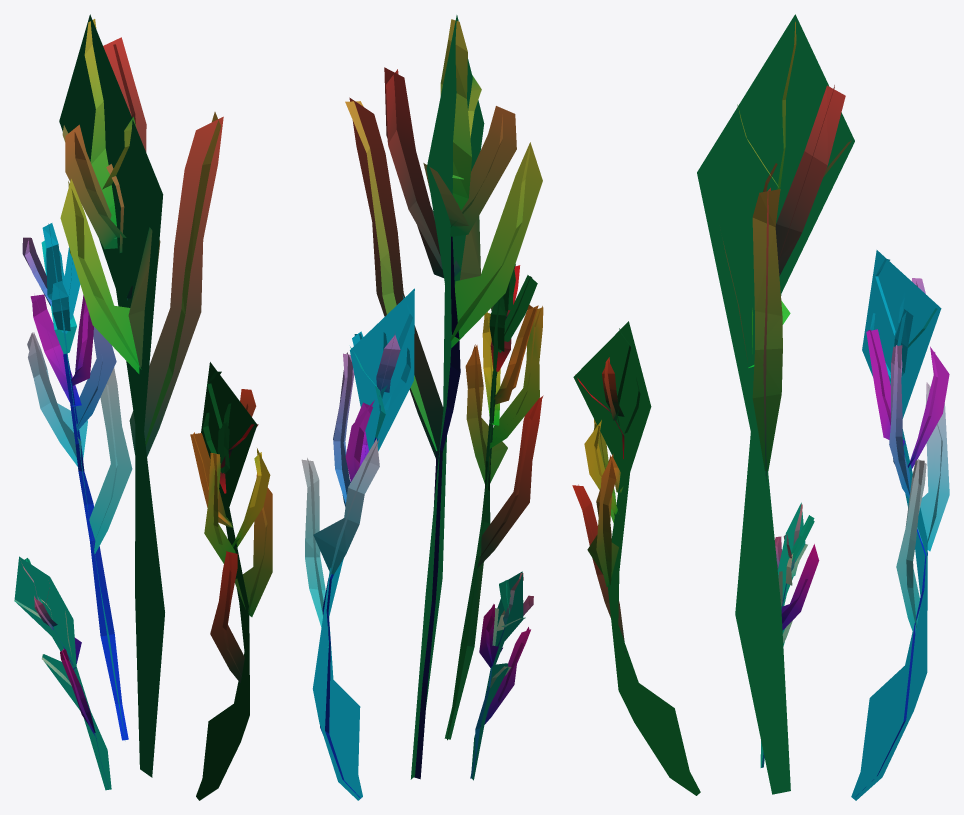
Rendered from Nordic_Coastal_Groundcover_vlqkdeaja_Mid_vlqkdeaja_VarF_LOD0.fbx.
The picture shows the model from 3 angles, left to right: view 1: azimuth 30°, elevation 25°; view 2: azimuth 150°, elevation 25°; view 3: azimuth 270°, elevation 25°; orthographic projection. The views are drawn at different scales.
Visible parts, largest first — view 1: _d447_VarF_LOD1; view 2: _d447_VarF_LOD1; view 3: _d447_VarF_LOD1.
Boxes of the visible parts, x1,y1,x2,y2 form: _d447_VarF_LOD1: [14, 14, 272, 800]; _d447_VarF_LOD1: [301, 15, 543, 800]; _d447_VarF_LOD1: [572, 14, 949, 800].
Size of the model in its own units: 21.71 by 83.08 by 37.53.
